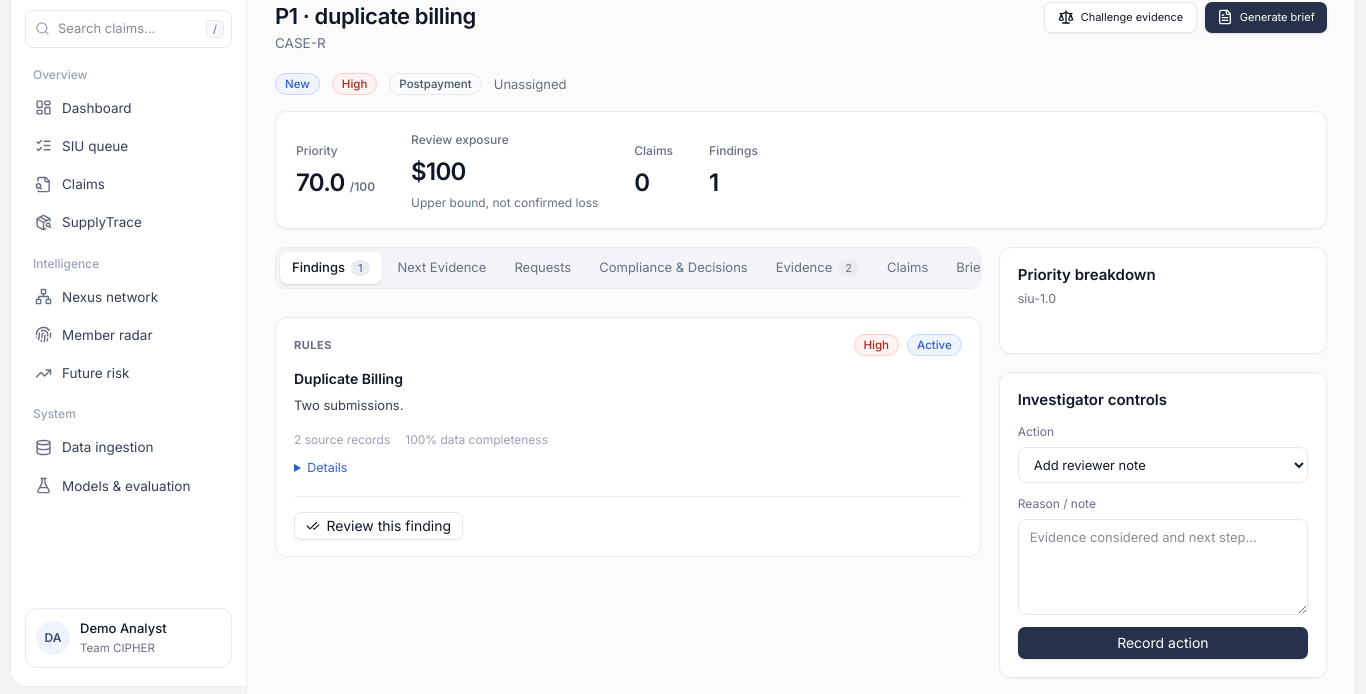
Test: Finding review › explains what is missing, then saves the decision and confirms the recalculation
This screenshot has width=1366, height=694.
Click the button "Review this finding".
click(378, 526)  # box [294, 512, 462, 540]
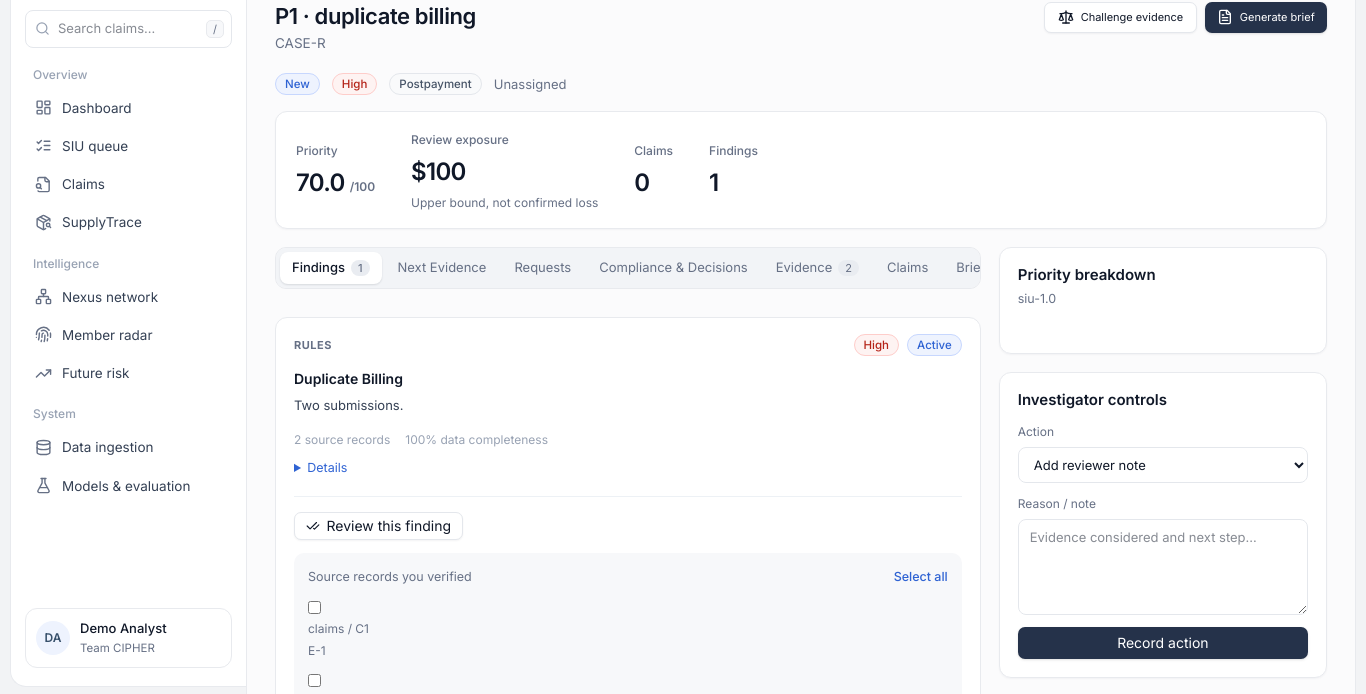
Click the button "Select all".
click(921, 577)  # box [894, 568, 948, 586]
(page scrolled)
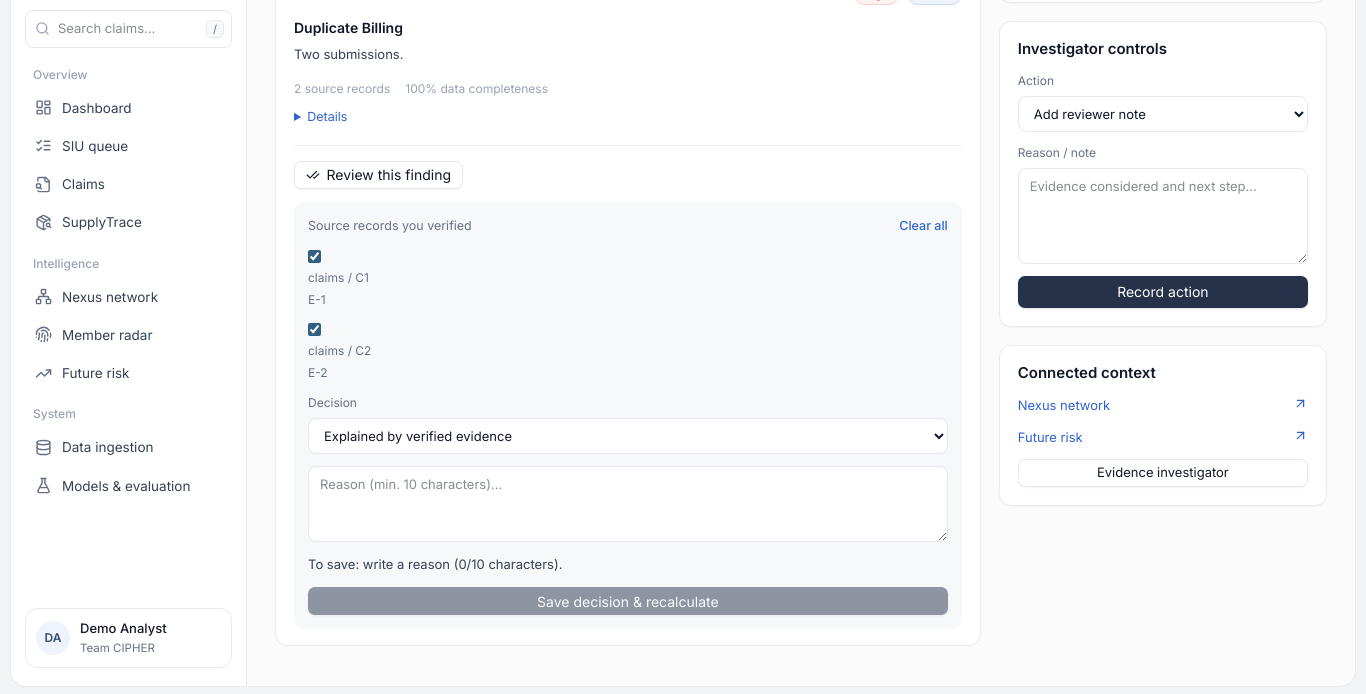
Type "Correction record explains it." into the text box named "Resolution reason".
click(628, 504); type("Correction record explains it.")  # box [308, 466, 948, 542]
(page scrolled)
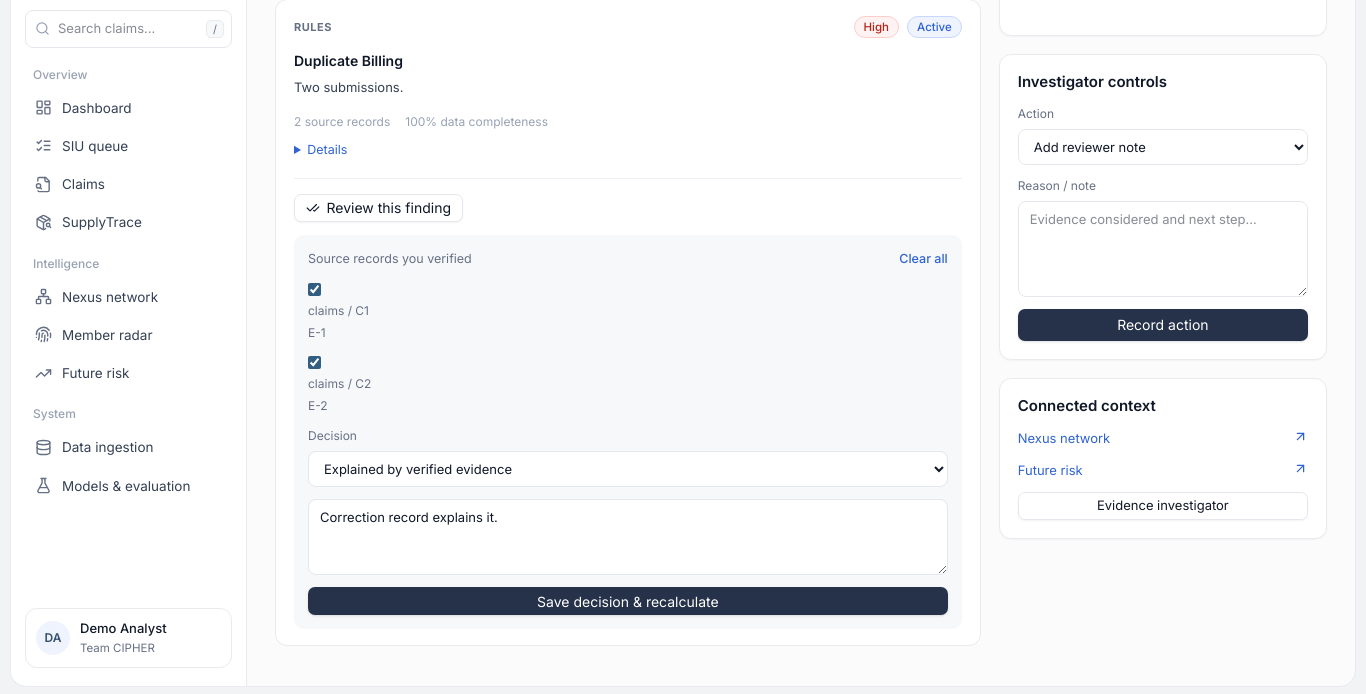
Result: the button "Save decision & recalculate" is enabled
Click the button "Save decision & recalculate".
click(628, 601)  # box [308, 587, 948, 615]
(page scrolled)
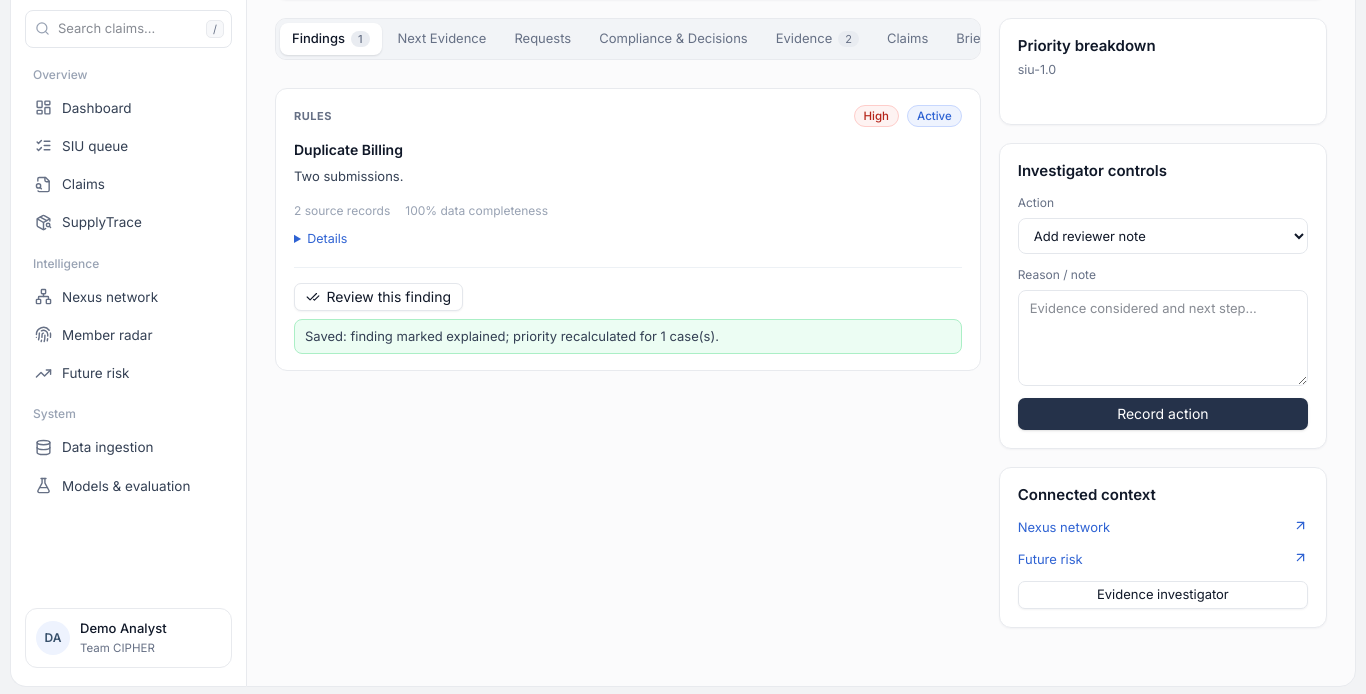
Result: the message shows "finding marked explained; priority recalculated for 1 case(s)" at [305, 328, 719, 344]
